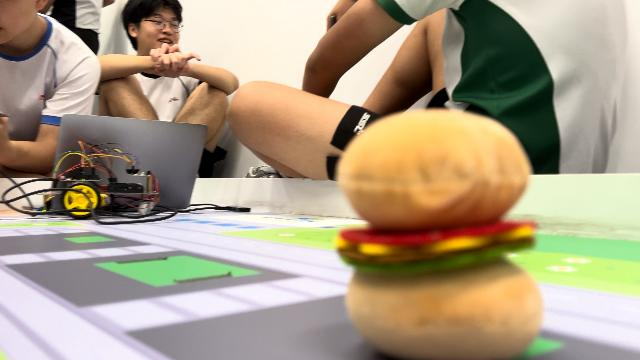burger: (329, 106, 546, 356)
